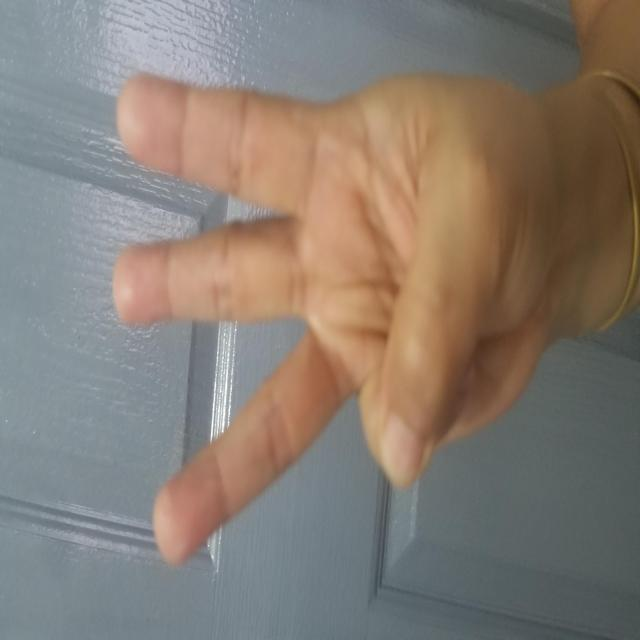W: (79, 111, 568, 542)
